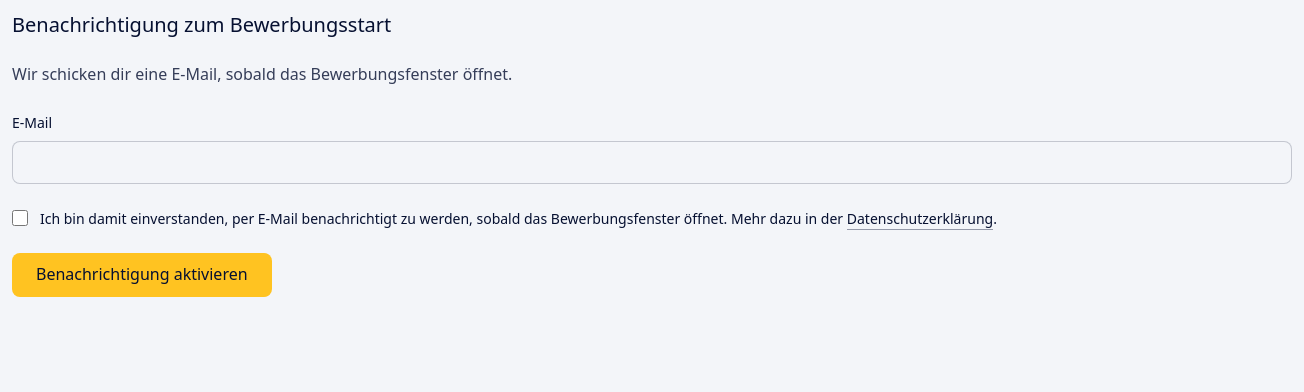
ReminderSignupForm › shows an error and does not reset the form when the request fails
Type "jane@example.com" into the field labelled "E-Mail".
click(652, 162); type("jane@example.com")  # box 12,141 -> 1292,184
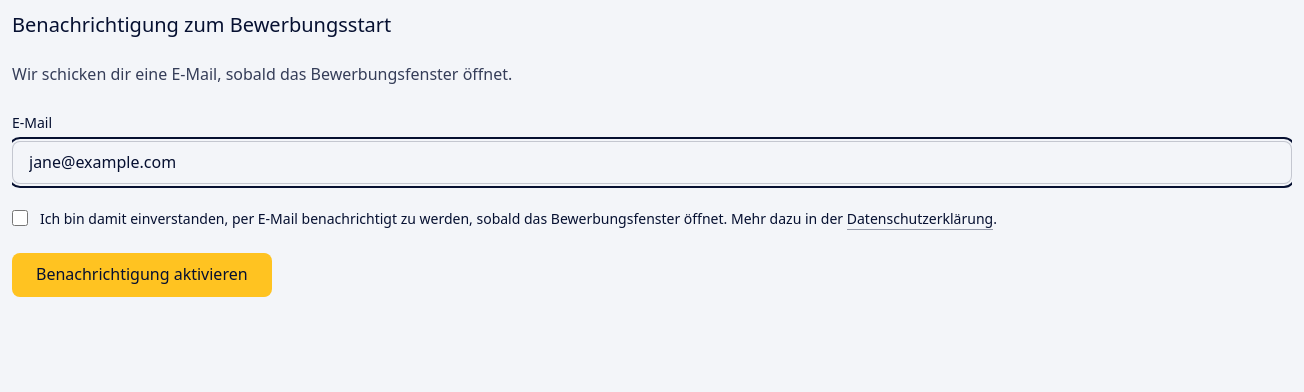
Click the checkbox.
click(20, 218)  # box 12,210 -> 28,226
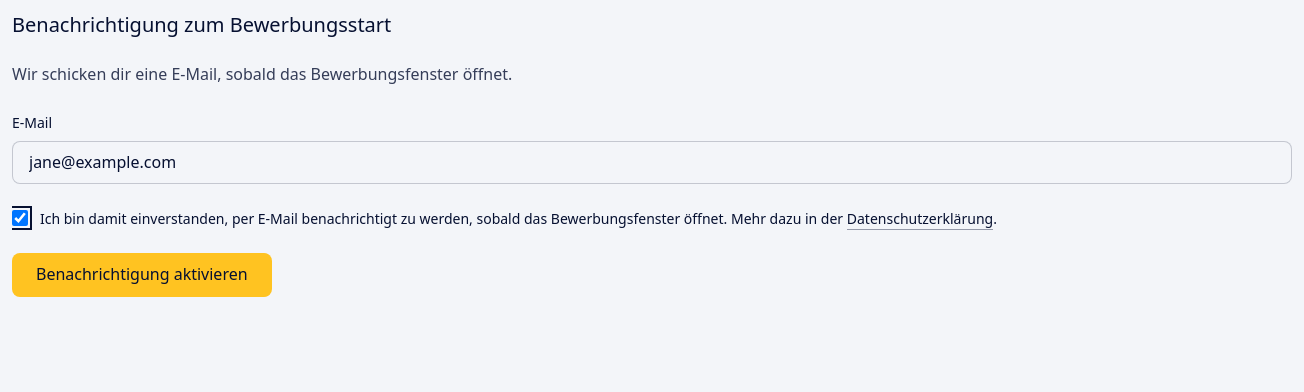
Click the button "Benachrichtigung aktivieren".
click(142, 275)  # box 12,253 -> 272,297
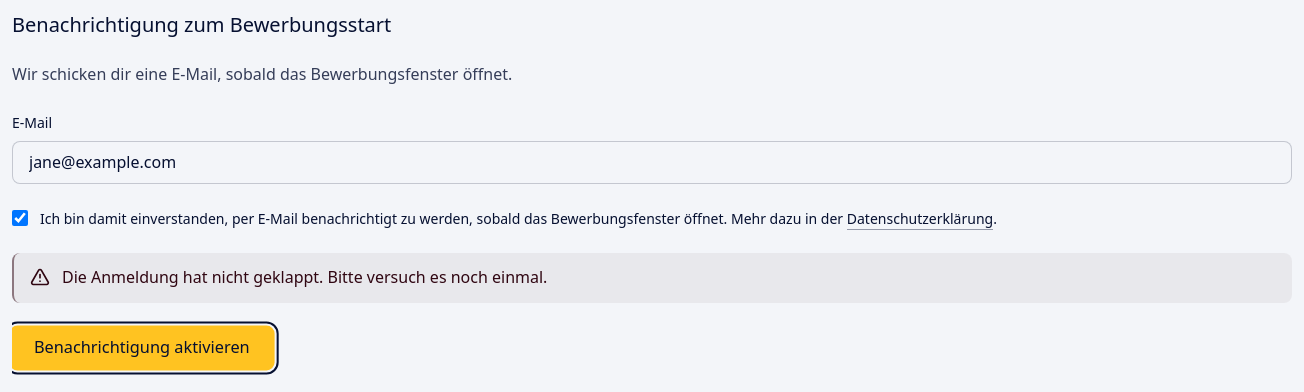
Now the message shows "hat nicht geklappt", box 62,266 -> 547,288
